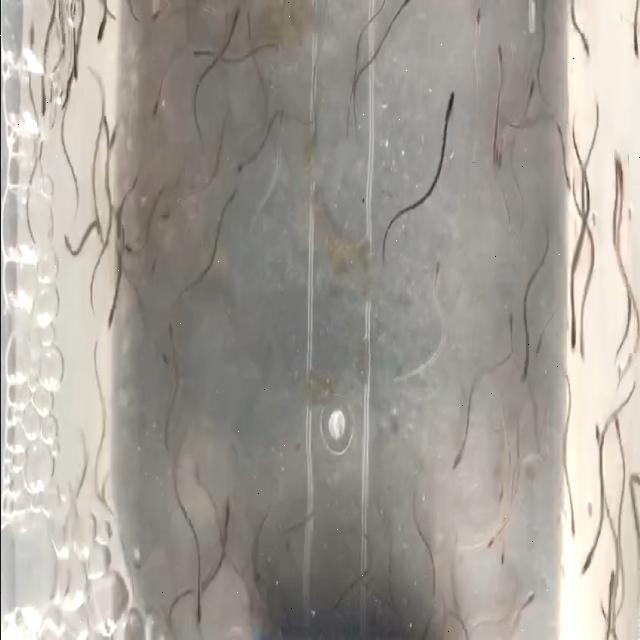active_glass_eel: (608, 398, 625, 456), (518, 342, 536, 392), (623, 18, 640, 69), (21, 15, 42, 54), (104, 298, 120, 348), (229, 0, 246, 46), (58, 74, 74, 122), (530, 324, 546, 372), (231, 144, 253, 178), (68, 48, 88, 84), (164, 310, 180, 354), (446, 80, 460, 128), (101, 126, 115, 174), (565, 319, 583, 355), (158, 201, 176, 237), (471, 0, 487, 40), (188, 36, 208, 68), (92, 208, 104, 261), (612, 144, 624, 196), (148, 101, 170, 128), (144, 247, 163, 278), (214, 187, 235, 214), (242, 0, 258, 35), (578, 551, 592, 590), (245, 360, 266, 386), (427, 252, 443, 286), (95, 13, 111, 47), (118, 236, 133, 272), (591, 413, 603, 457), (524, 584, 544, 610), (493, 472, 509, 504), (190, 590, 207, 620), (191, 462, 206, 496), (495, 39, 509, 75), (281, 609, 297, 640), (562, 463, 576, 498), (251, 556, 266, 588), (144, 1, 168, 21), (58, 218, 72, 252), (156, 341, 170, 375), (554, 118, 572, 144), (494, 137, 506, 176), (448, 452, 462, 485), (504, 314, 522, 339), (36, 87, 50, 119), (485, 524, 497, 559), (526, 80, 542, 106), (604, 566, 616, 600), (274, 102, 286, 134), (576, 333, 588, 363), (391, 0, 407, 22), (496, 548, 508, 576), (420, 614, 432, 640), (582, 40, 592, 70)
